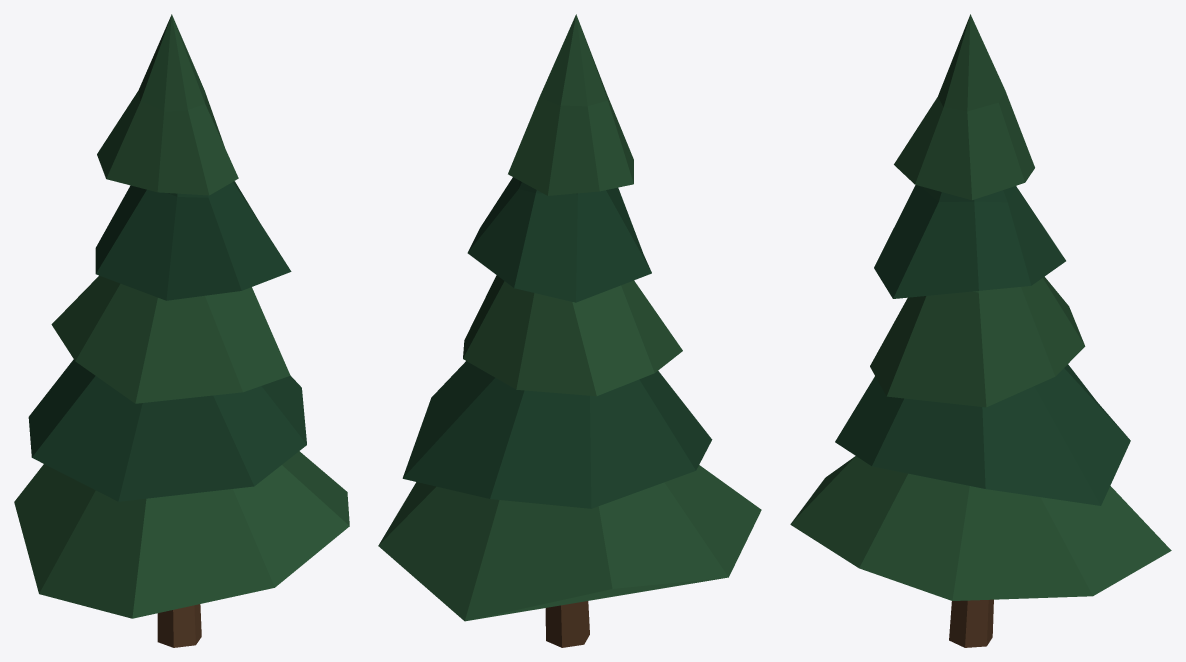
Rendered from Tree_Pine_B.glb.
The picture shows the model from 3 angles, left to right: view 1: azimuth 30°, elevation 25°; view 2: azimuth 150°, elevation 25°; view 3: azimuth 270°, elevation 25°; orthographic projection.
Visible parts, largest first — view 1: Tree_Pine_B; view 2: Tree_Pine_B; view 3: Tree_Pine_B.
Part boxes in pixels (x1,y1,x2,y2): Tree_Pine_B: (14, 14, 349, 647); Tree_Pine_B: (378, 14, 761, 647); Tree_Pine_B: (790, 14, 1171, 647).
Size of the model in its own units: 2.65 by 5.15 by 2.86.
